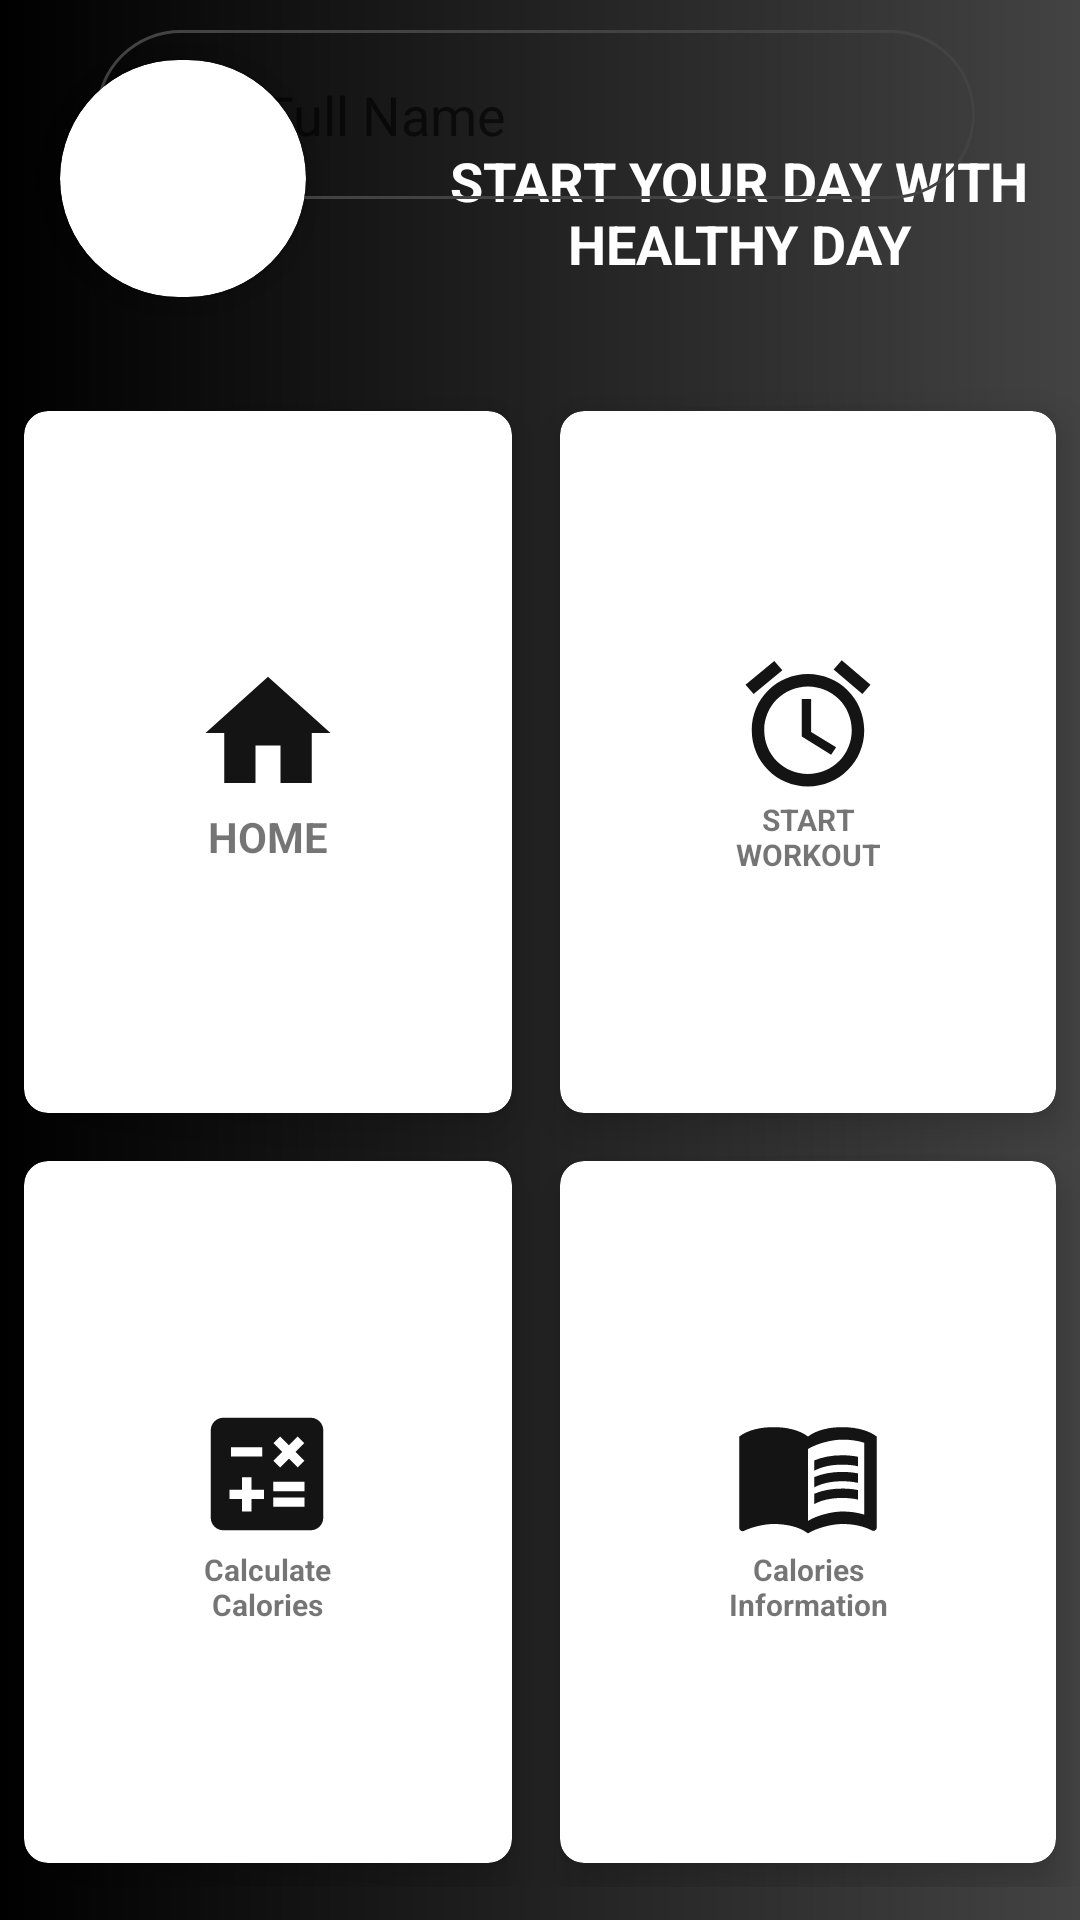

Named icons in this screenshot (1080px×1920px) and their bounding boxes, BBox(x1, y1, x2, y2):
stopwatch: BBox(745, 660, 871, 787)
